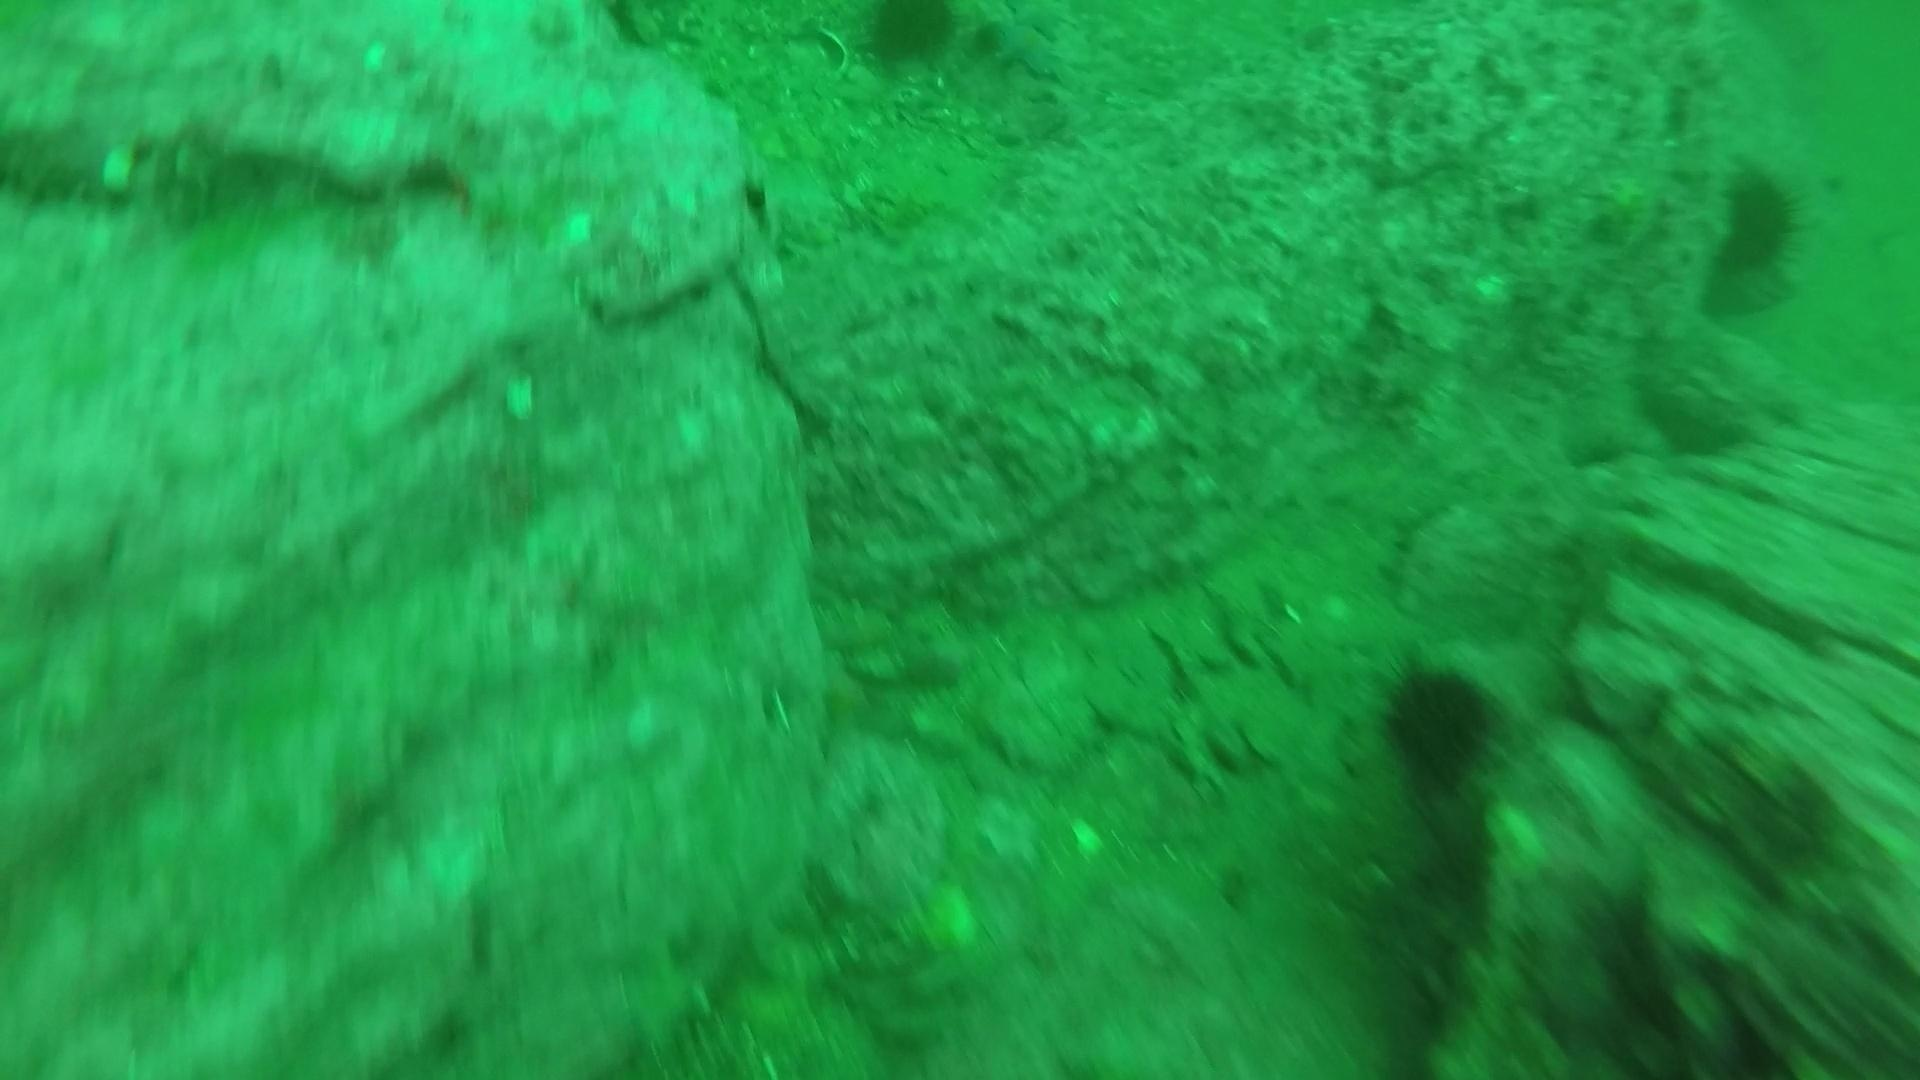echinus: (1371, 654, 1506, 793), (1706, 161, 1809, 285), (852, 1, 967, 75)
starfish: (969, 9, 1077, 88), (988, 1, 1087, 55)
